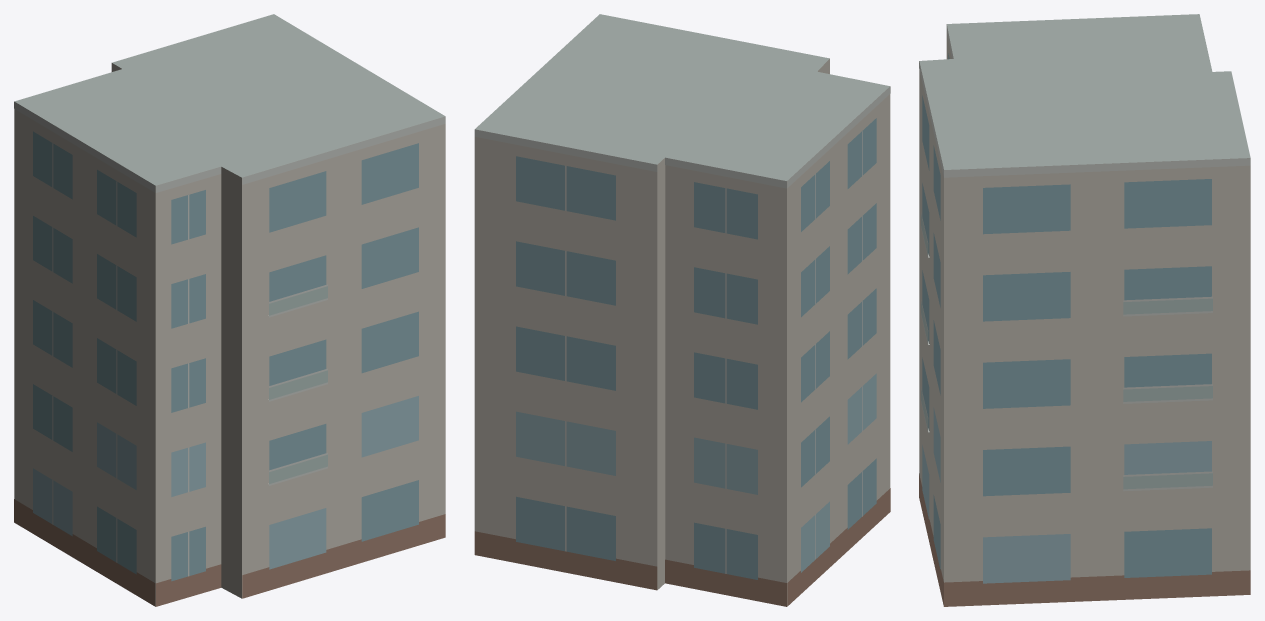
Rendered from survey-upis-32668466.glb.
The picture shows the model from 3 angles, left to right: view 1: azimuth 30°, elevation 25°; view 2: azimuth 150°, elevation 25°; view 3: azimuth 270°, elevation 25°; orthographic projection. The views are drawn at different scales.
Parts seen in each view (by area): view 1: survey-upis-32668466.tmp; view 2: survey-upis-32668466.tmp; view 3: survey-upis-32668466.tmp.
Part boxes in pixels (box(x1,y1,x2,y2)): survey-upis-32668466.tmp: box(14, 14, 445, 606); survey-upis-32668466.tmp: box(474, 14, 890, 606); survey-upis-32668466.tmp: box(919, 14, 1250, 606).
Size of the model in its own units: 10.74 by 14 by 9.64.
